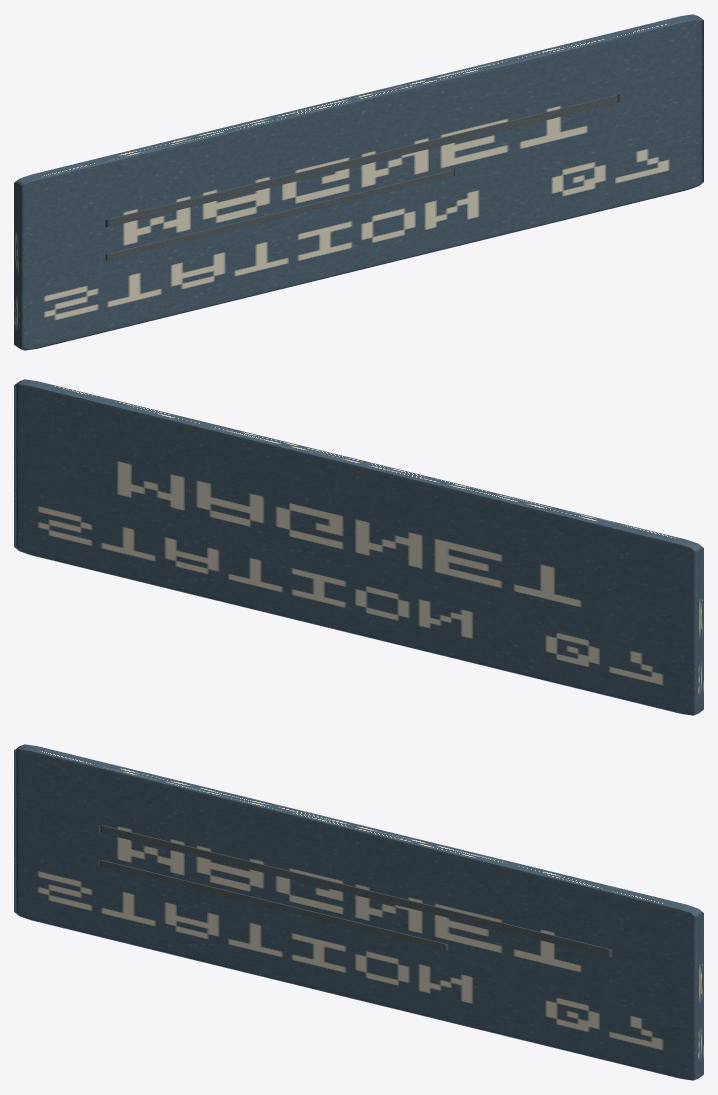
Rendered from magnet.glb.
3 views of the same model, one above another, from view 1: azimuth 30°, elevation 25°; view 2: azimuth 150°, elevation 25°; view 3: azimuth 330°, elevation 25° (orthographic).
Visible parts, largest first — view 1: board, stripe, line; view 2: board; view 3: board, stripe, line.
Boxes of the visible parts, <box> form: board: <box>14,14,703,350</box>; stripe: <box>105,94,619,227</box>; line: <box>105,169,454,260</box>; board: <box>14,379,703,715</box>; board: <box>14,744,703,1080</box>; stripe: <box>98,824,612,957</box>; line: <box>98,859,448,950</box>.
Bounding box in the file's own units: 0.16 × 0.038 × 0.00272.
2 materials, 2 textured.
